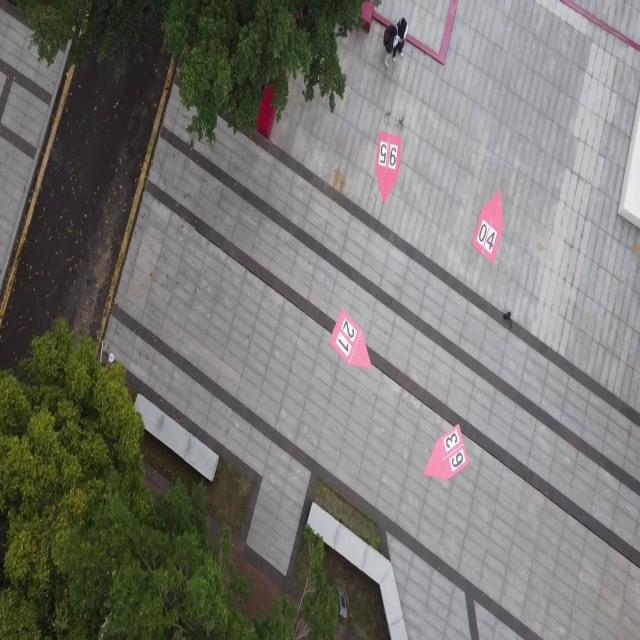-sign-: (329, 307, 373, 372), (424, 424, 470, 482), (472, 189, 504, 265), (376, 131, 402, 206)
